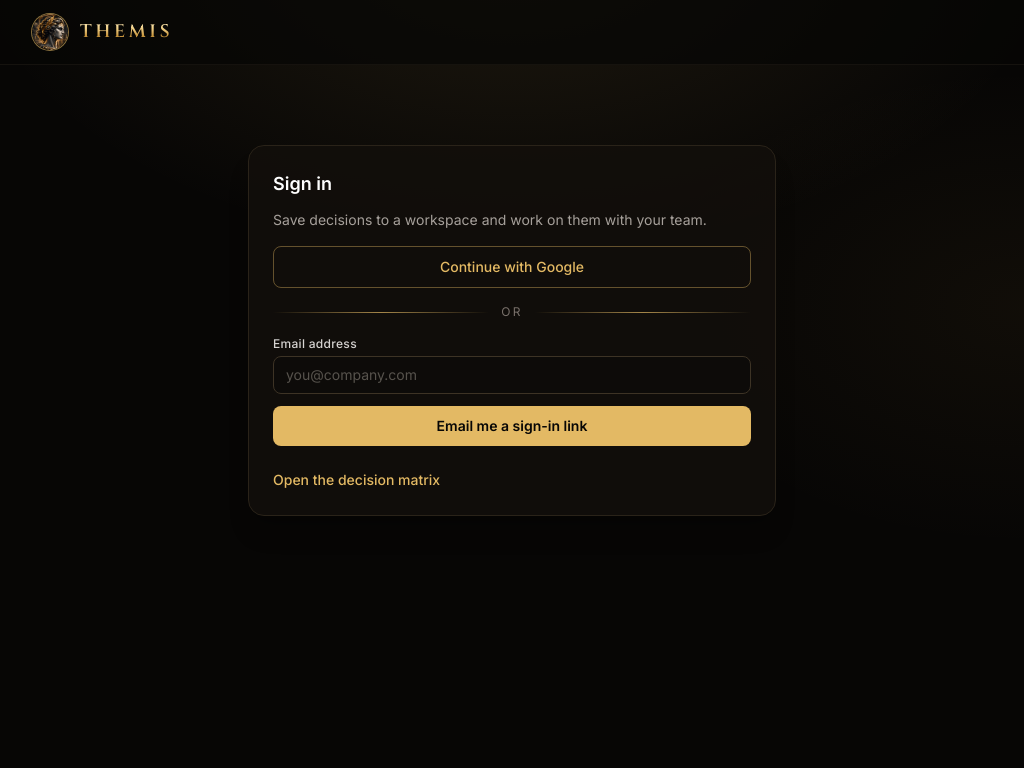
Test: /signin (configured) › magic link: an empty address is refused without a request
Click the button "Email me a sign-in link".
click(512, 426)  # box [273, 406, 751, 446]
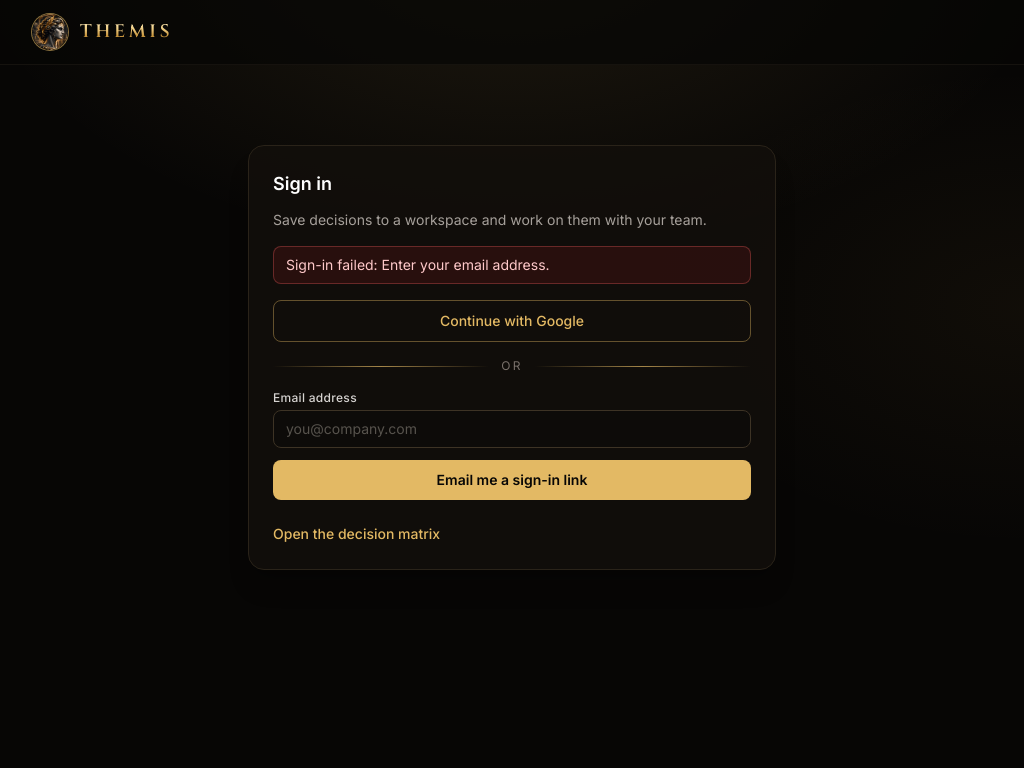
Expected: the message shows "Enter your email address.", [286, 256, 550, 273]
